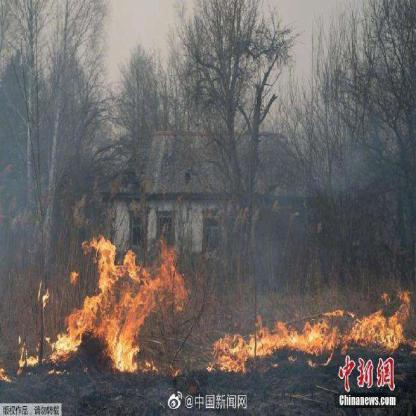fire: (26, 235, 189, 369), (212, 299, 404, 369)
